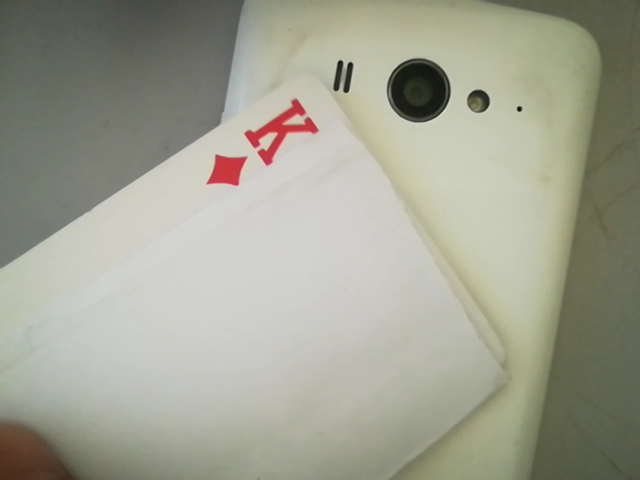fk k: (195, 93, 338, 187)
